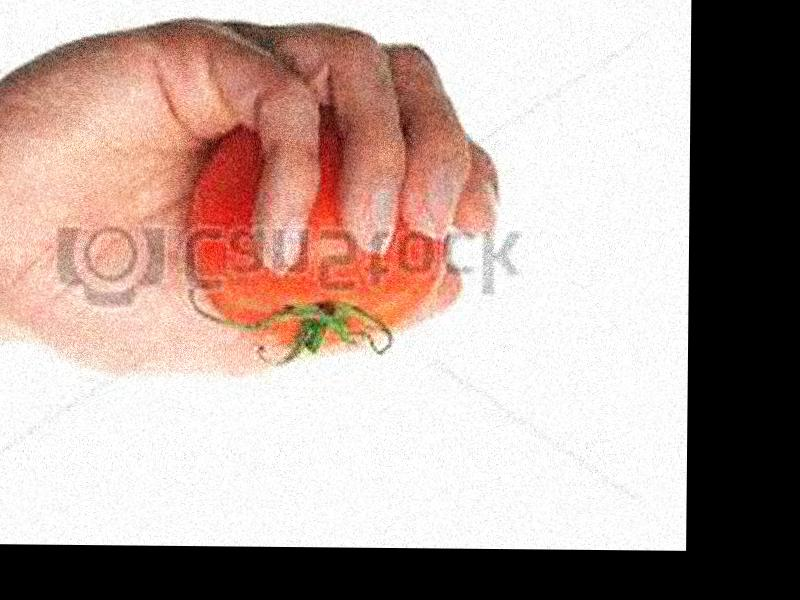Tomato: (194, 113, 448, 348)
